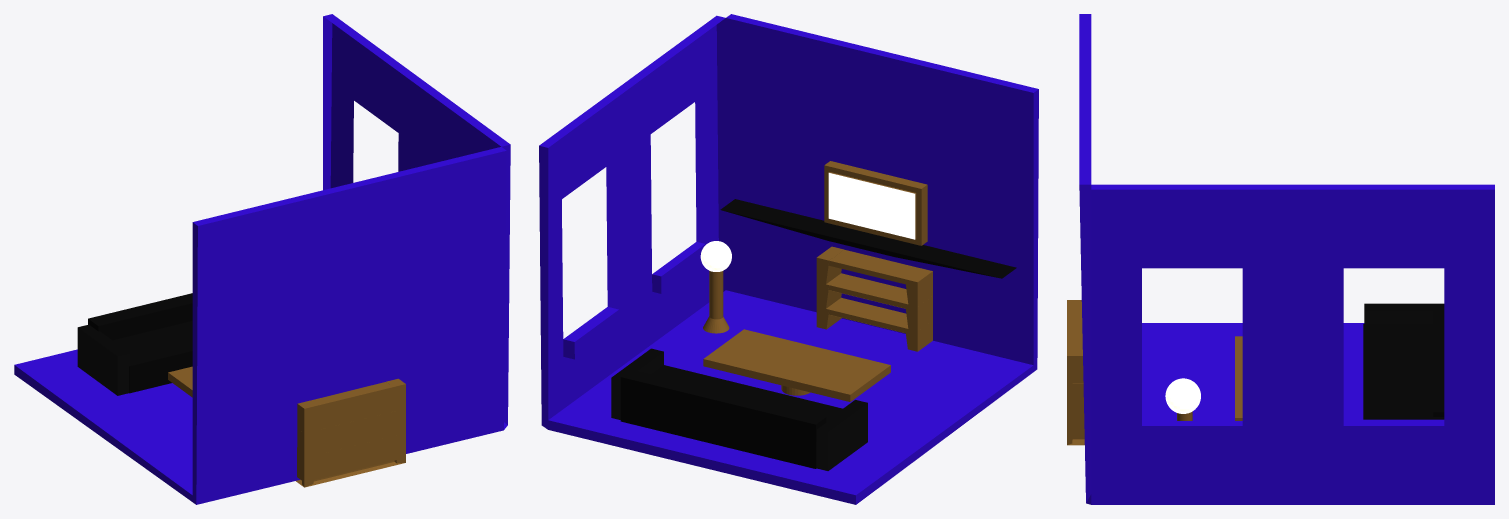
The model's file is room.glb.
The picture shows the model from 3 angles, left to right: view 1: azimuth 30°, elevation 25°; view 2: azimuth 150°, elevation 25°; view 3: azimuth 270°, elevation 25°; orthographic projection. The views are drawn at different scales.
Parts seen in each view (by area): view 1: Plane.003; view 2: Plane.003; view 3: Plane.003.
Boxes of the visible parts, x1,y1,x2,y2 form: Plane.003: [14, 14, 510, 504]; Plane.003: [539, 14, 1038, 504]; Plane.003: [1067, 14, 1494, 504].
Size of the model in its own units: 354 by 301 by 364.
